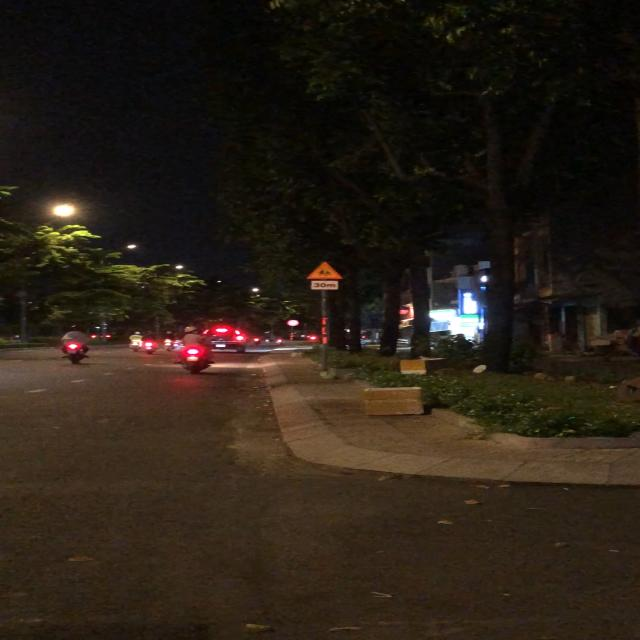Bien bao tre em: (304, 260, 344, 280)
